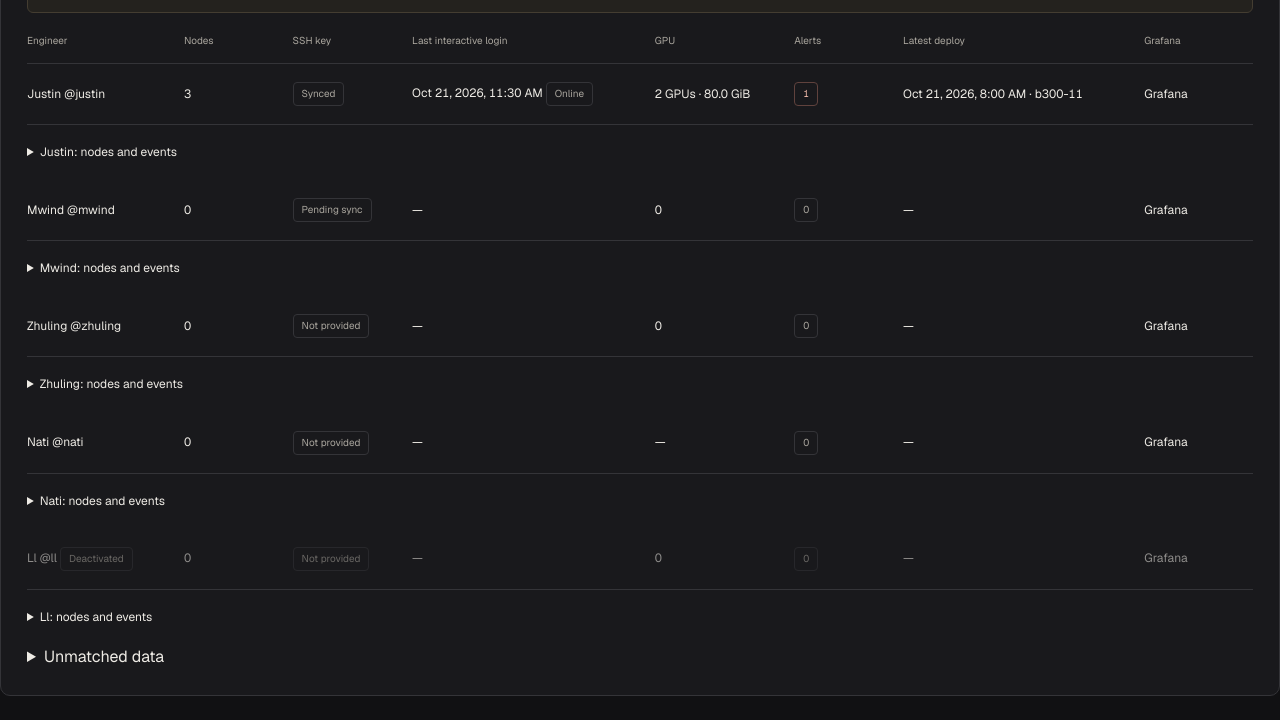
Scenario: admin engineers section › lists unmatched data
The width and height of the screenshot is (1280, 720).
(page scrolled)
Click the heading "Unmatched data" at (104, 656), box [44,646,164,667]
(page scrolled)
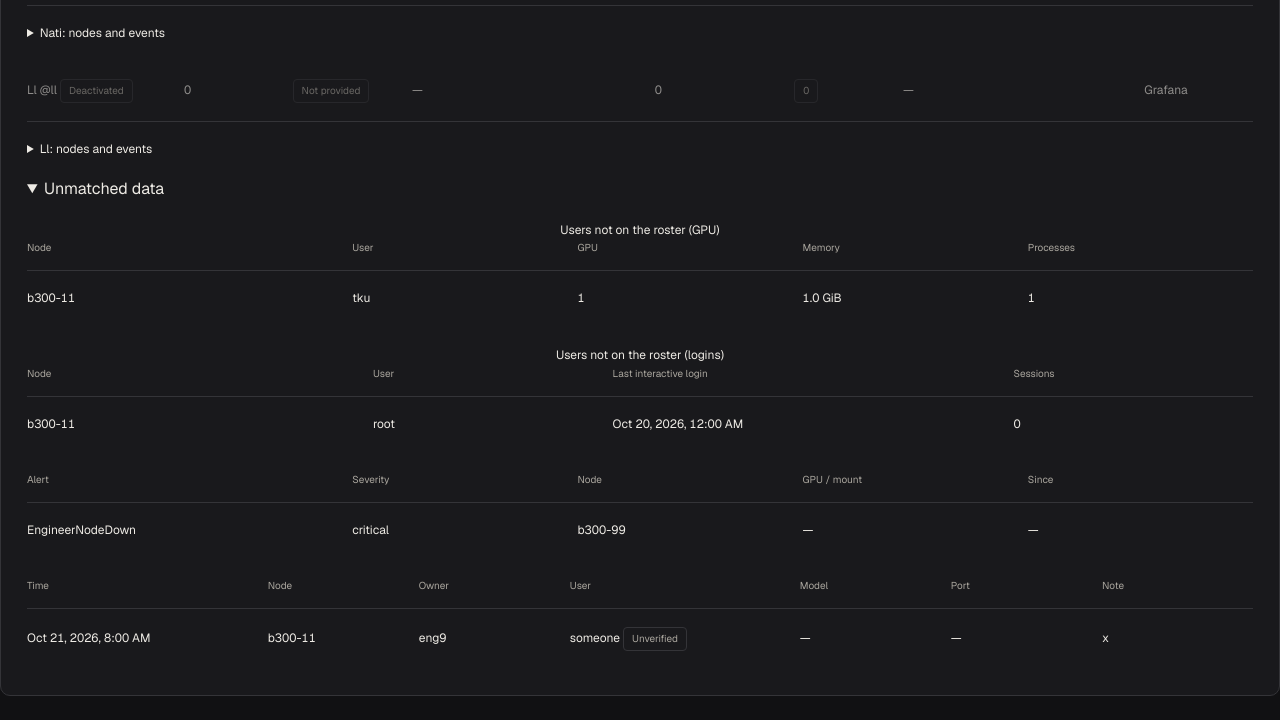
Expected: the text "tku" is shown, [352,271,578,326]
Expected: the text "root" is shown, [373,396,612,452]
Expected: the text "b300-99" is shown, [577,503,803,558]
